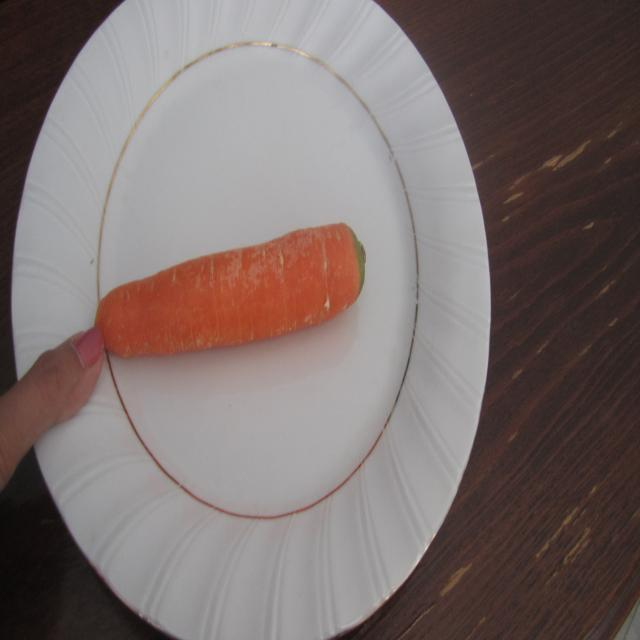Carrot: (94, 217, 371, 367)
Finger: (28, 323, 106, 423)
